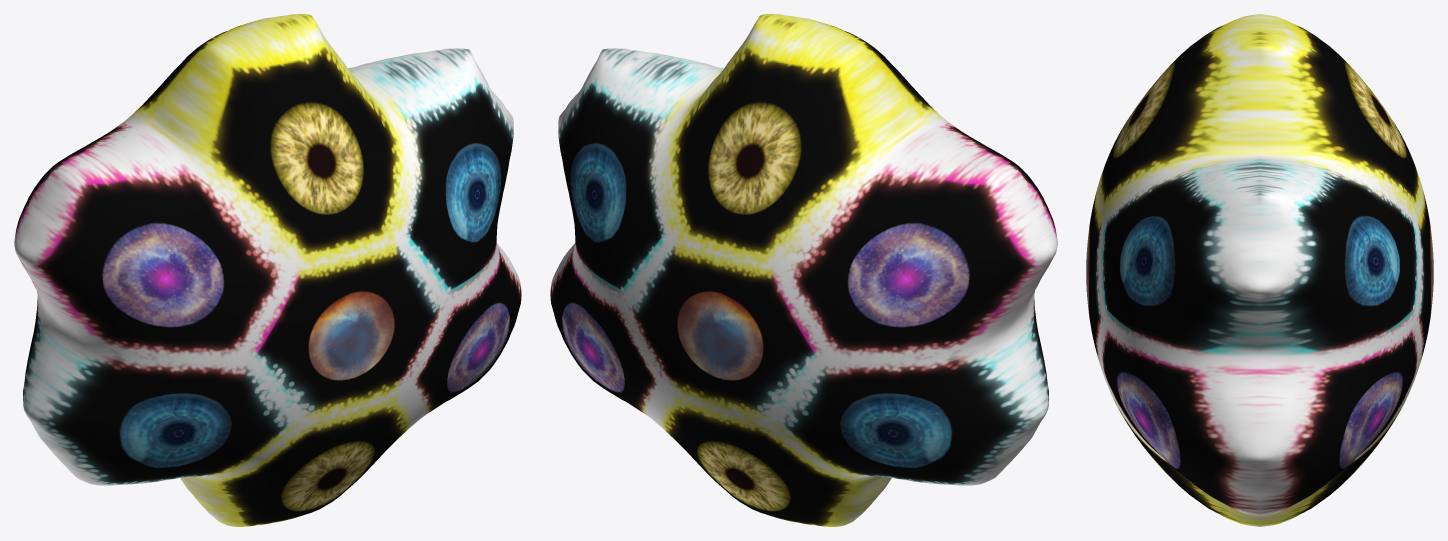
Rendered from Cctv0.8dfafcb4.glb.
3 renders of one model, left to right at view 1: azimuth 30°, elevation 25°; view 2: azimuth 150°, elevation 25°; view 3: azimuth 270°, elevation 25°, orthographic.
Bounding box in the file's own units: 6.63 × 6.22 × 4.03.
1 material, 1 textured.
